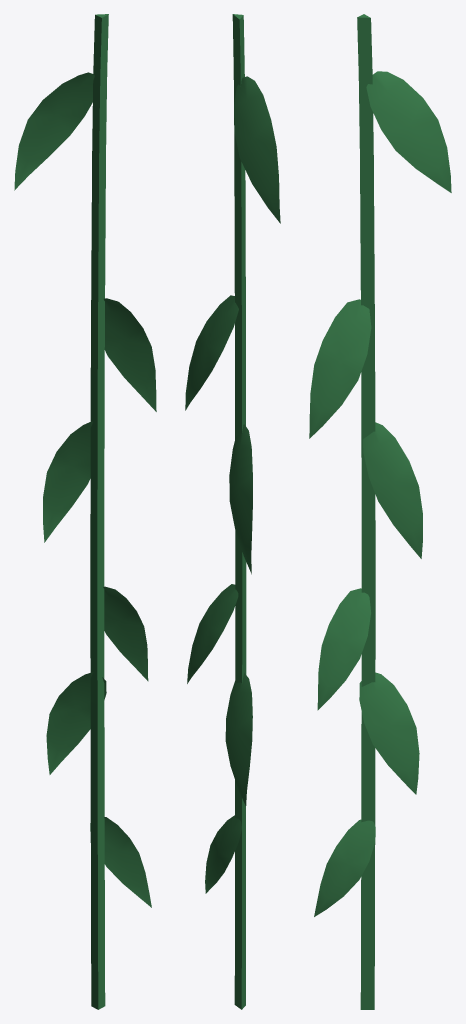
File: vine_H_scanden.fbx
3 renders of one model, left to right at view 1: azimuth 90°, elevation 25°; view 2: azimuth 210°, elevation 25°; view 3: azimuth 270°, elevation 25°, orthographic.
Visible parts, largest first — view 1: vine_H_scanden_root, vine_H_scanden_A_leaf_A, vine_H_scanden_A_leaf_A5, vine_H_scanden_A_leaf_A2, vine_H_scanden_A_leaf_A3, vine_H_scanden_A_leaf_A6, vine_H_scanden_A_leaf_A7; view 2: vine_H_scanden_root, vine_H_scanden_A_leaf_A, vine_H_scanden_A_leaf_A3, vine_H_scanden_A_leaf_A2, vine_H_scanden_A_leaf_A5, vine_H_scanden_A_leaf_A6, vine_H_scanden_A_leaf_A7; view 3: vine_H_scanden_root, vine_H_scanden_A_leaf_A, vine_H_scanden_A_leaf_A5, vine_H_scanden_A_leaf_A2, vine_H_scanden_A_leaf_A3, vine_H_scanden_A_leaf_A6, vine_H_scanden_A_leaf_A7.
Part boxes in pixels (bbox=[...]): vine_H_scanden_root: bbox=[90, 14, 108, 1009]; vine_H_scanden_A_leaf_A: bbox=[14, 72, 94, 190]; vine_H_scanden_A_leaf_A5: bbox=[103, 298, 156, 411]; vine_H_scanden_A_leaf_A2: bbox=[43, 421, 92, 542]; vine_H_scanden_A_leaf_A3: bbox=[46, 672, 106, 774]; vine_H_scanden_A_leaf_A6: bbox=[103, 586, 148, 681]; vine_H_scanden_A_leaf_A7: bbox=[90, 816, 151, 907]; vine_H_scanden_root: bbox=[232, 14, 246, 1009]; vine_H_scanden_A_leaf_A: bbox=[234, 76, 280, 223]; vine_H_scanden_A_leaf_A3: bbox=[225, 672, 252, 805]; vine_H_scanden_A_leaf_A2: bbox=[229, 424, 252, 574]; vine_H_scanden_A_leaf_A5: bbox=[185, 295, 238, 410]; vine_H_scanden_A_leaf_A6: bbox=[187, 584, 238, 683]; vine_H_scanden_A_leaf_A7: bbox=[205, 815, 241, 893]; vine_H_scanden_root: bbox=[357, 14, 375, 1009]; vine_H_scanden_A_leaf_A: bbox=[366, 71, 451, 192]; vine_H_scanden_A_leaf_A5: bbox=[309, 299, 371, 438]; vine_H_scanden_A_leaf_A2: bbox=[363, 422, 422, 558]; vine_H_scanden_A_leaf_A3: bbox=[359, 672, 419, 794]; vine_H_scanden_A_leaf_A6: bbox=[317, 588, 370, 710]; vine_H_scanden_A_leaf_A7: bbox=[314, 819, 375, 916].
Bounding box in the file's own units: 6.41 × 175 × 22.67.
